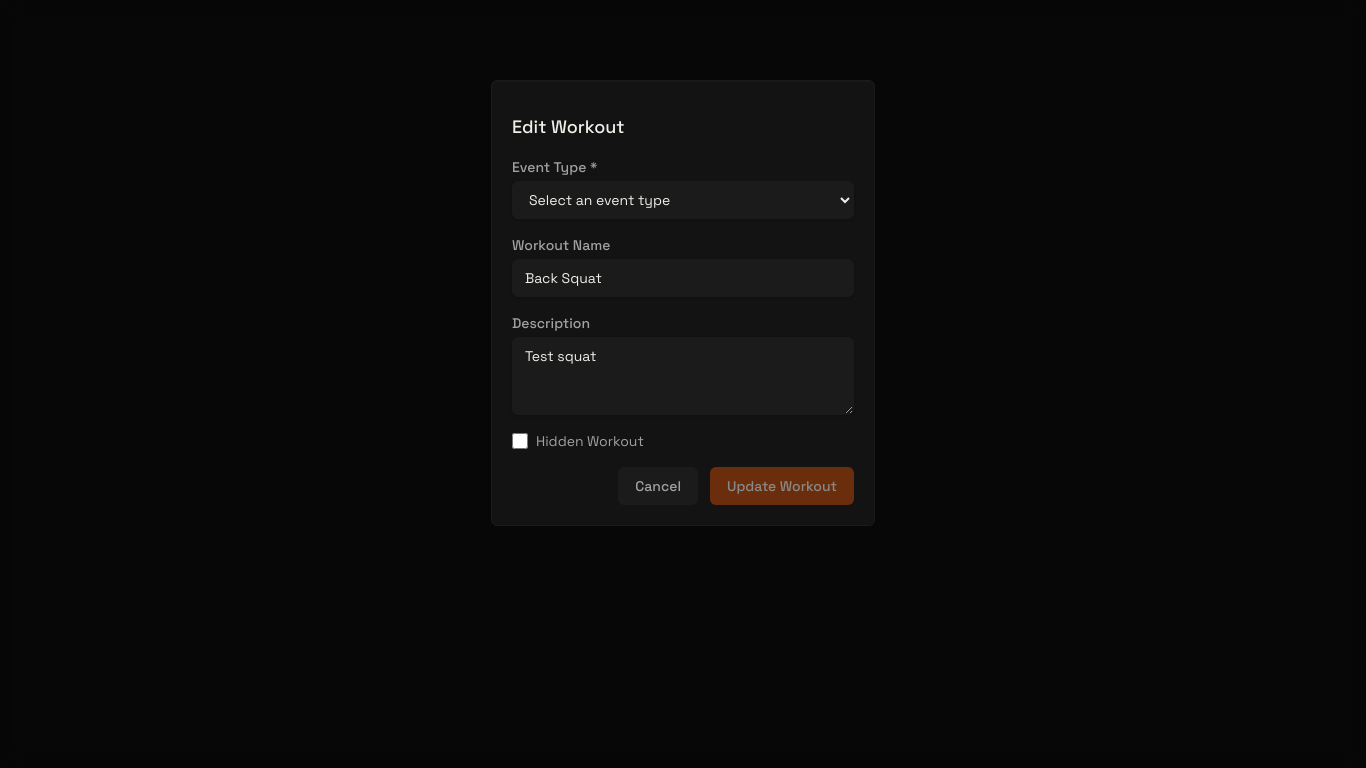
EditWorkoutModal › shows error when no event type selected
This screenshot has width=1366, height=768.
Select "Select an event type" in the dropdown labelled "Event Type *": (683, 200) [512,181,854,219]
Submit the form, box [512,157,854,505]
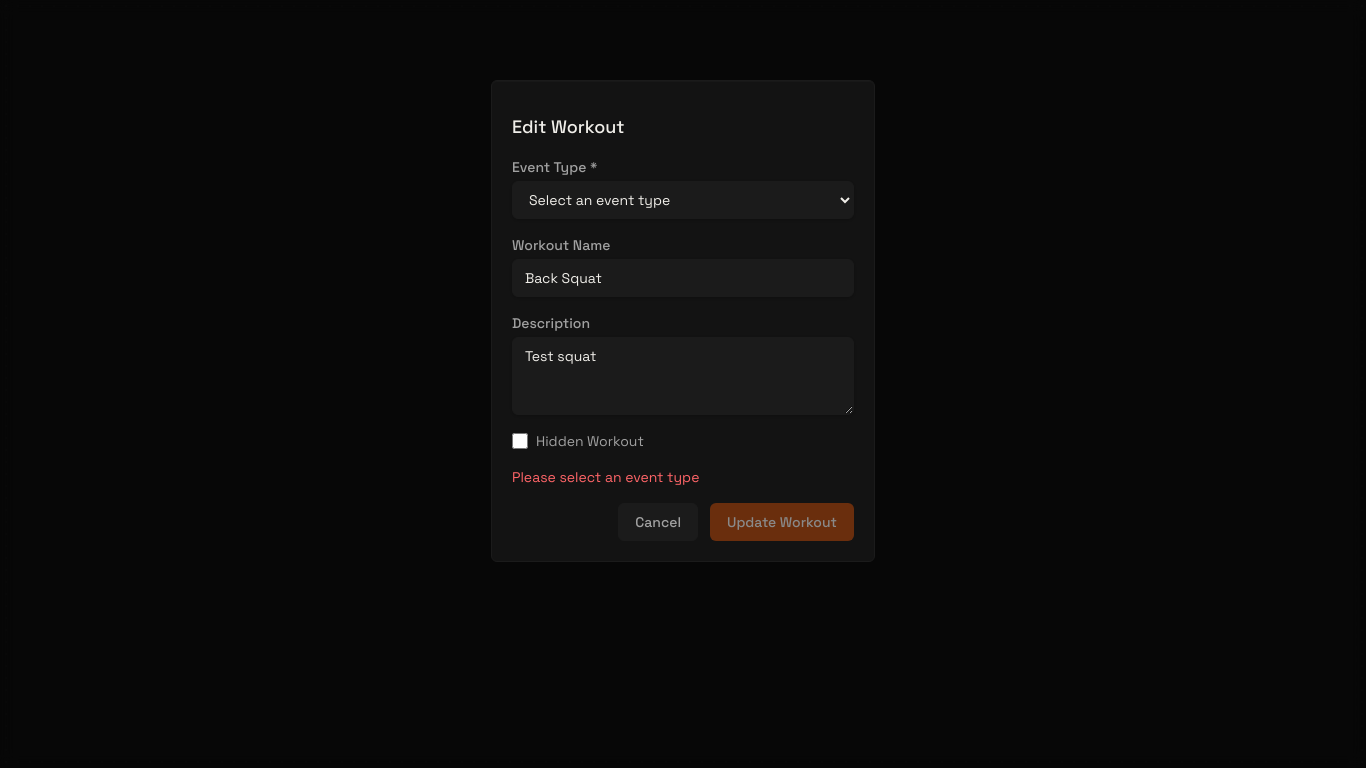
Check: the text "Please select an event type" is shown, box [512,468,699,486]
